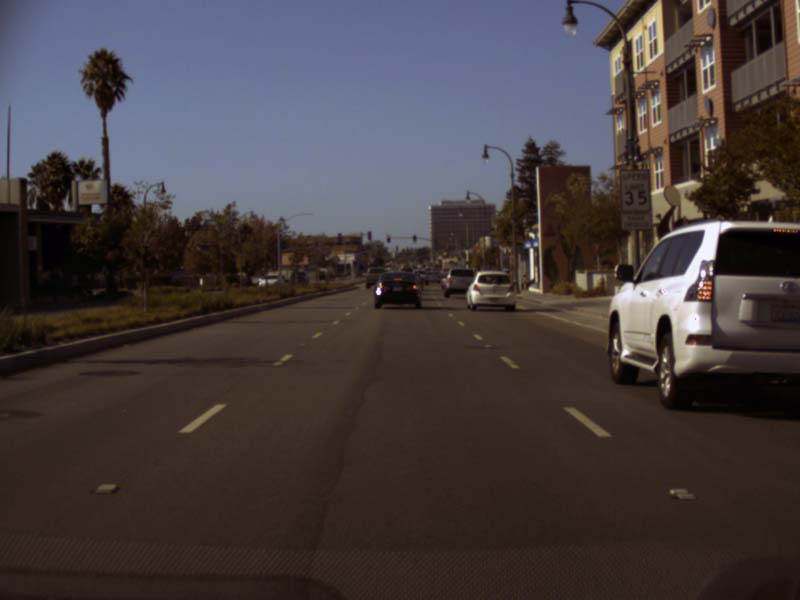Green: (412, 234, 416, 242)
Red: (386, 235, 389, 242)
